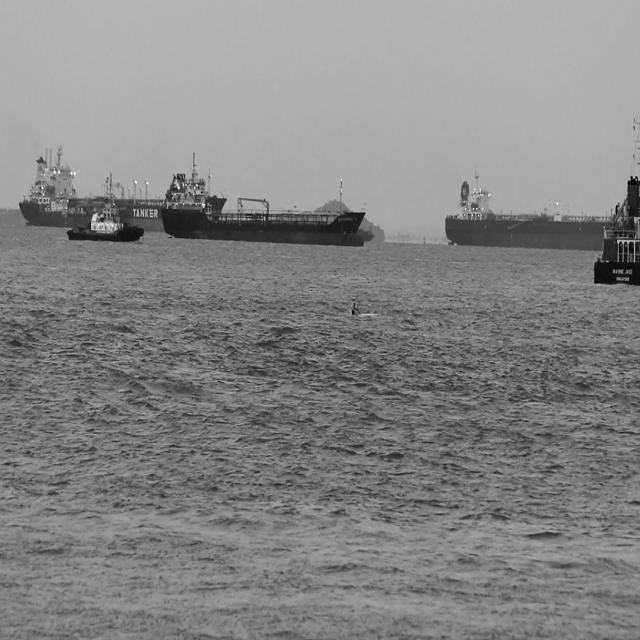kayak: (348, 299, 378, 320)
ship: (162, 150, 366, 247), (446, 163, 615, 250), (17, 144, 167, 231), (592, 115, 639, 286), (64, 202, 145, 244), (358, 224, 376, 242)
